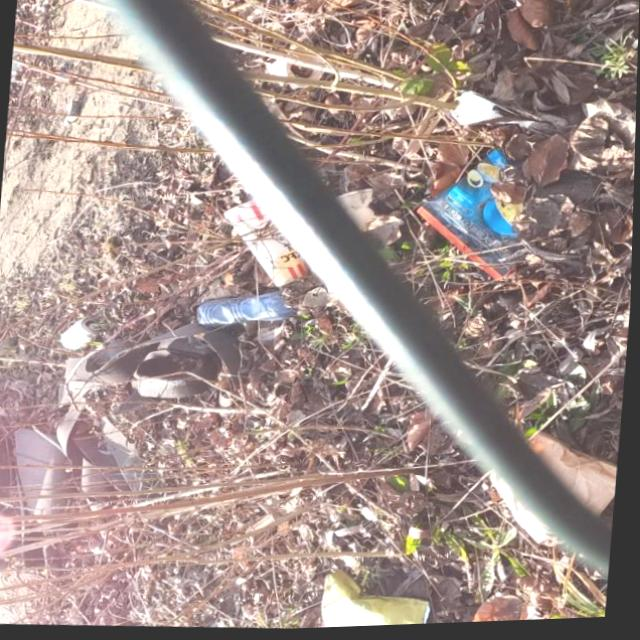Can-Metal: (60, 315, 105, 353)
Cup: (218, 197, 319, 294)
Plastic: (411, 148, 539, 291), (320, 567, 437, 630), (448, 90, 574, 146)
